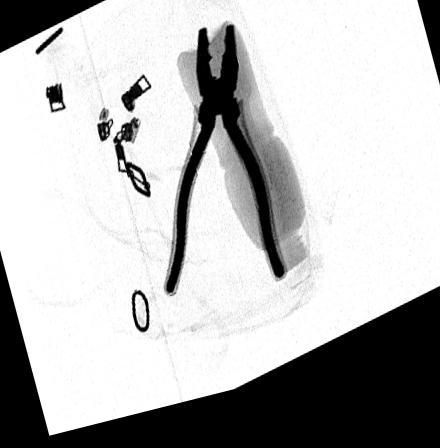Pliers: (163, 34, 284, 305)
